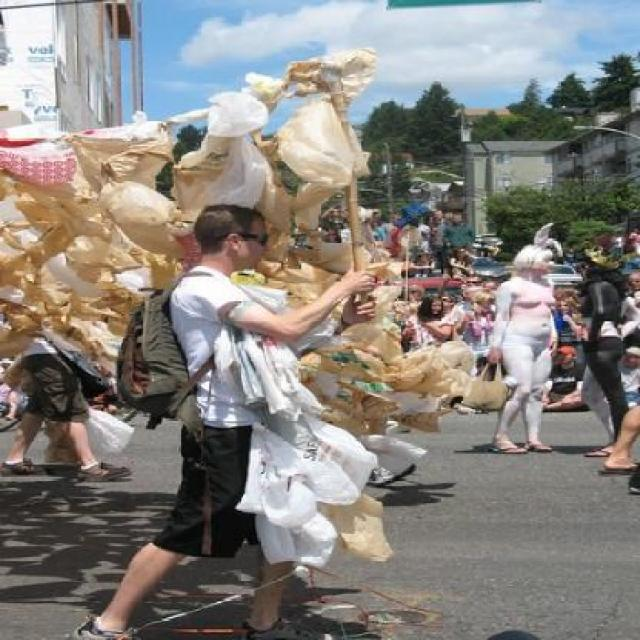plastic bag: (0, 55, 500, 574)
